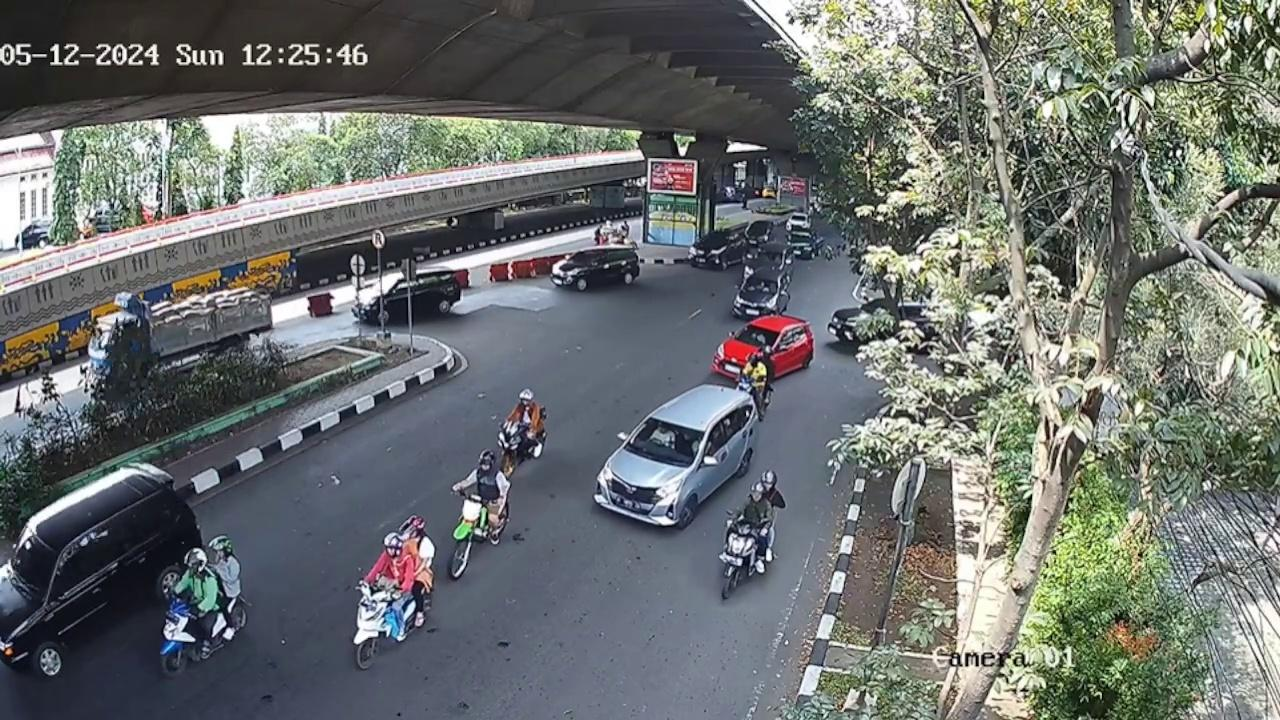tidak-pakai: (646, 426, 674, 451)
windshield: (627, 417, 704, 464), (730, 320, 782, 348)
